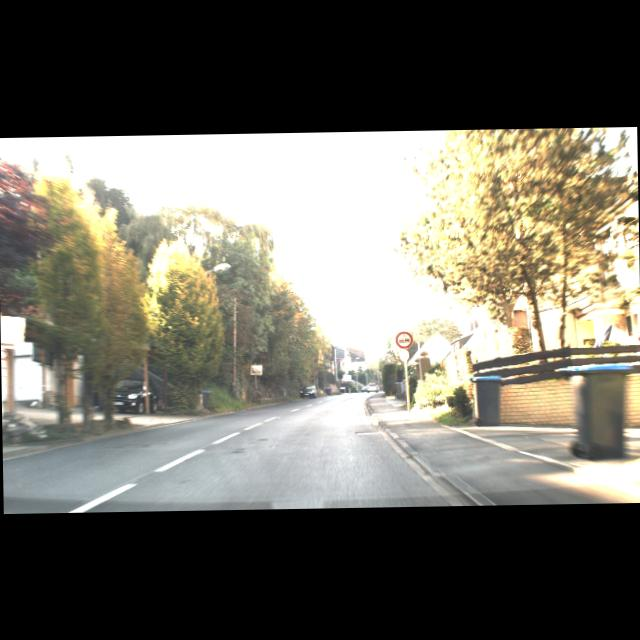prohibitory: (394, 331, 412, 348)
